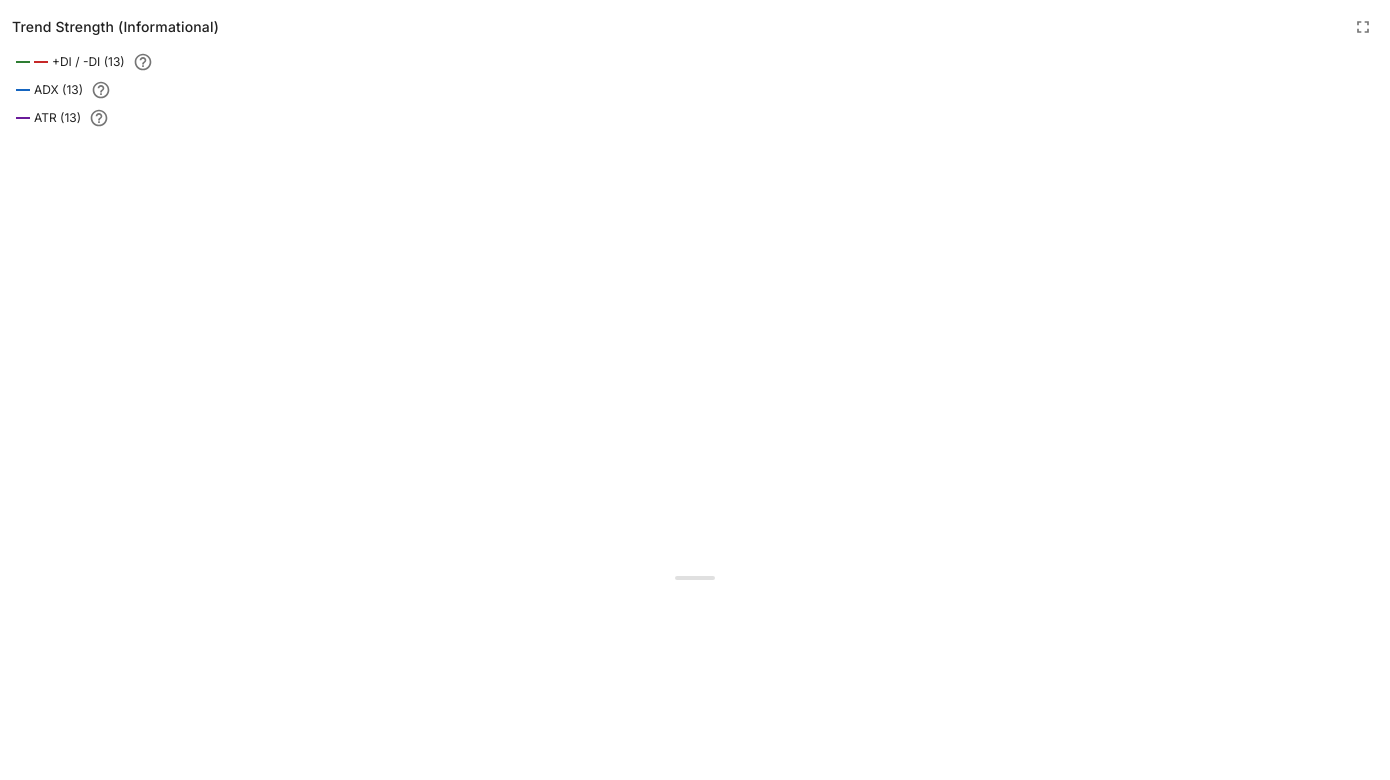
TrendStrengthChart › opens the +DI/-DI MetricHelp balloon naming which direction currently leads
This screenshot has width=1390, height=780.
What coordinates should you click on to do the following:
click the button named "+DI / -DI (13) help"
I would click on:
 (143, 62)
Its box is [133, 52, 153, 72].
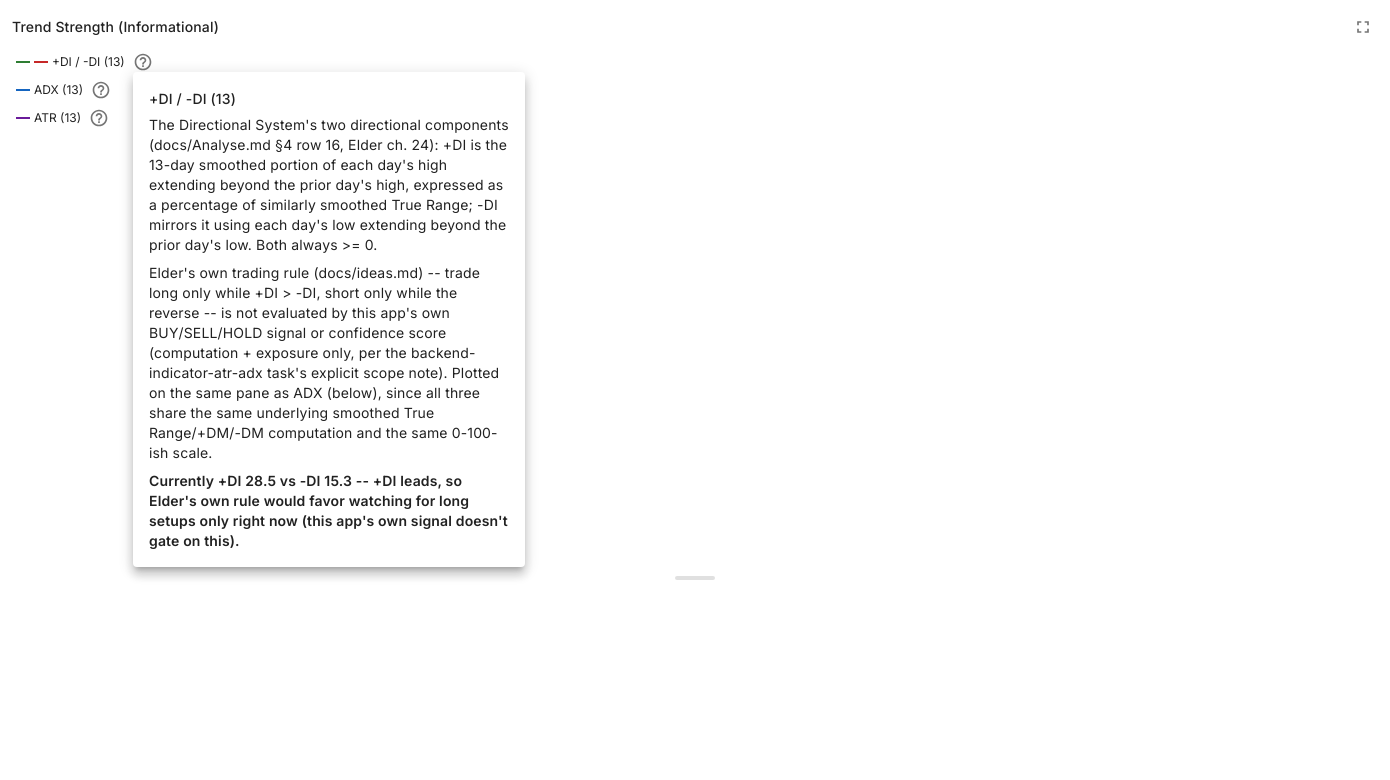
Result: the text "+DI leads" is shown at [149, 472, 508, 549]
